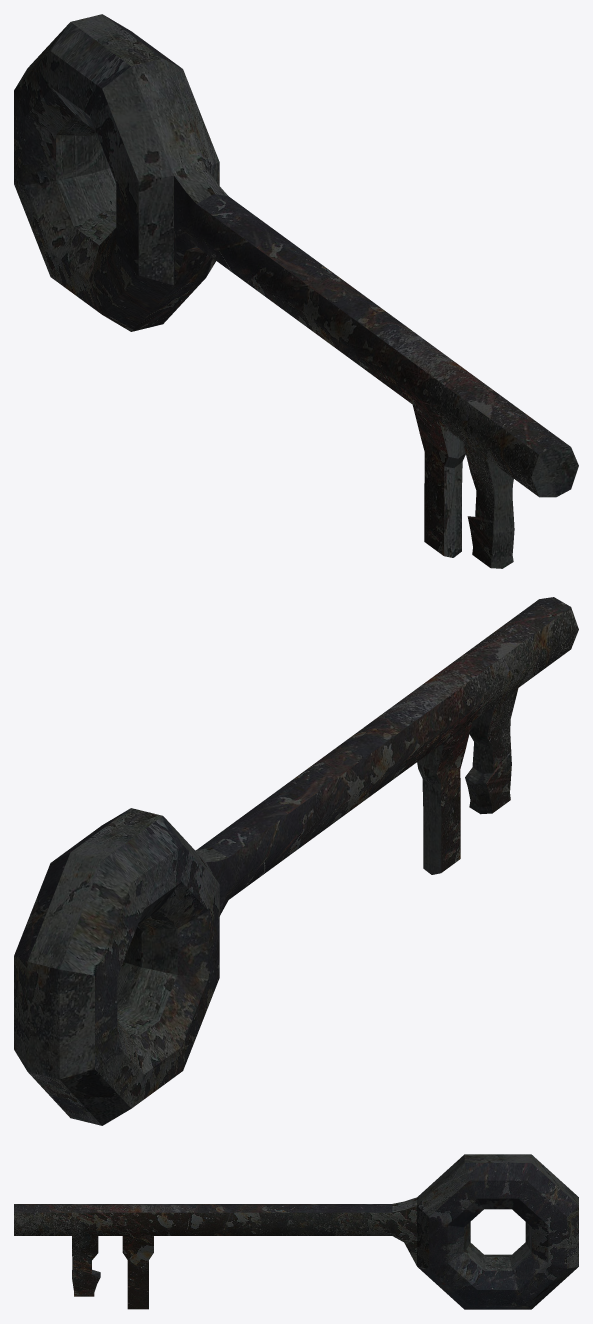
The model's file is RustyKey.fbx.
3 renders of one model, top to bottom at view 1: azimuth 30°, elevation 25°; view 2: azimuth 150°, elevation 25°; view 3: azimuth 270°, elevation 25°, orthographic. The views are drawn at different scales.
Visible parts, largest first — view 1: pTorus1; view 2: pTorus1; view 3: pTorus1.
Part boxes in pixels (<box>): pTorus1: <box>14,14,578,568</box>; pTorus1: <box>14,597,578,1125</box>; pTorus1: <box>14,1154,578,1309</box>.
Size of the model in its own units: 0.9848 by 2.79 by 9.48.
1 material, 1 textured.
